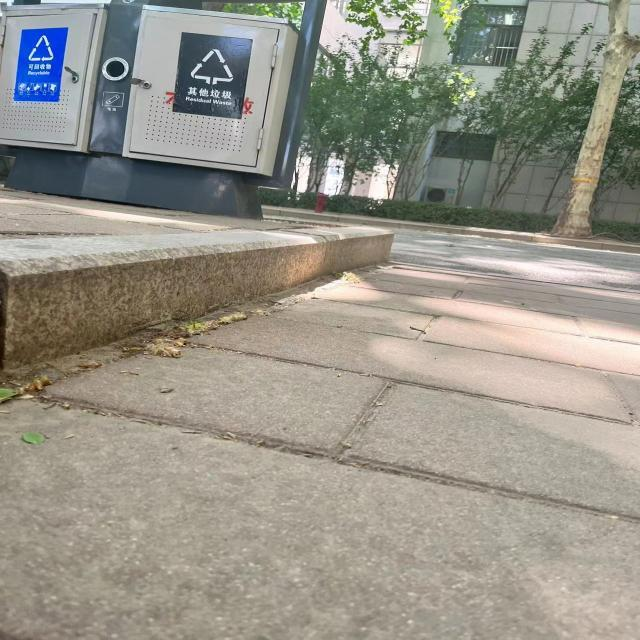bump: (0, 175, 389, 369), (463, 217, 640, 260)
